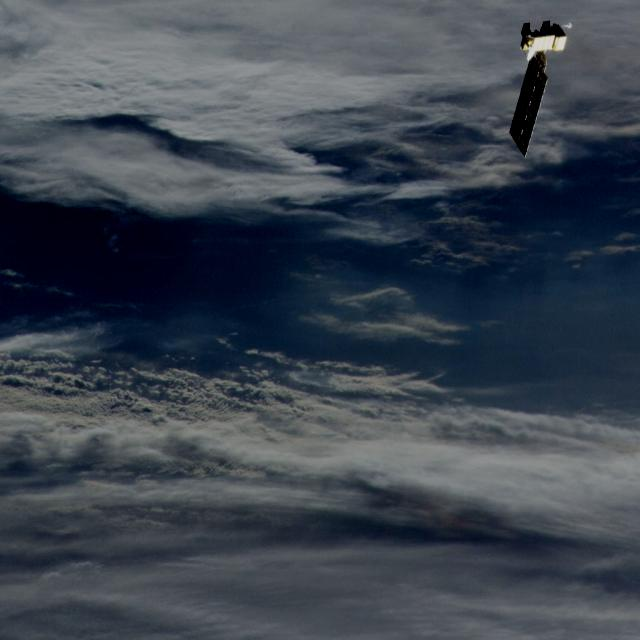satellite: (501, 0, 574, 157)
